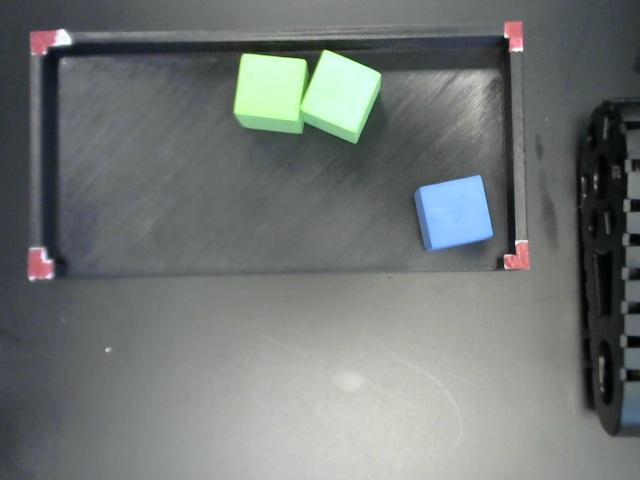cube: (306, 49, 383, 143), (415, 171, 494, 252), (233, 51, 306, 133)
